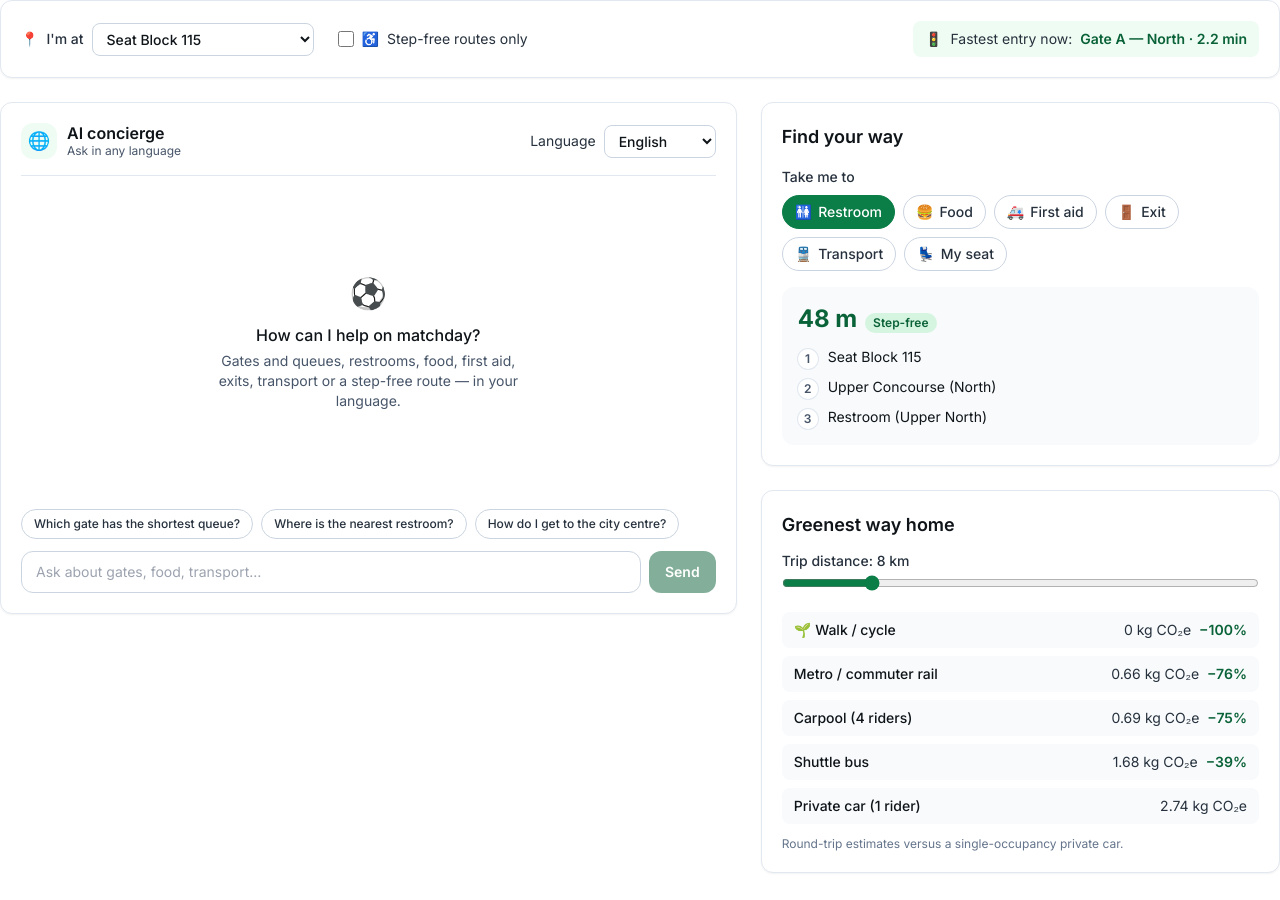
Test: ConciergeChat — offline behaviour › answers from the on-device engine when the network is gone
This screenshot has width=1280, height=900.
Step 1. Click the button "Where is the nearest restroom?" → (364, 524), box [261, 509, 467, 539]
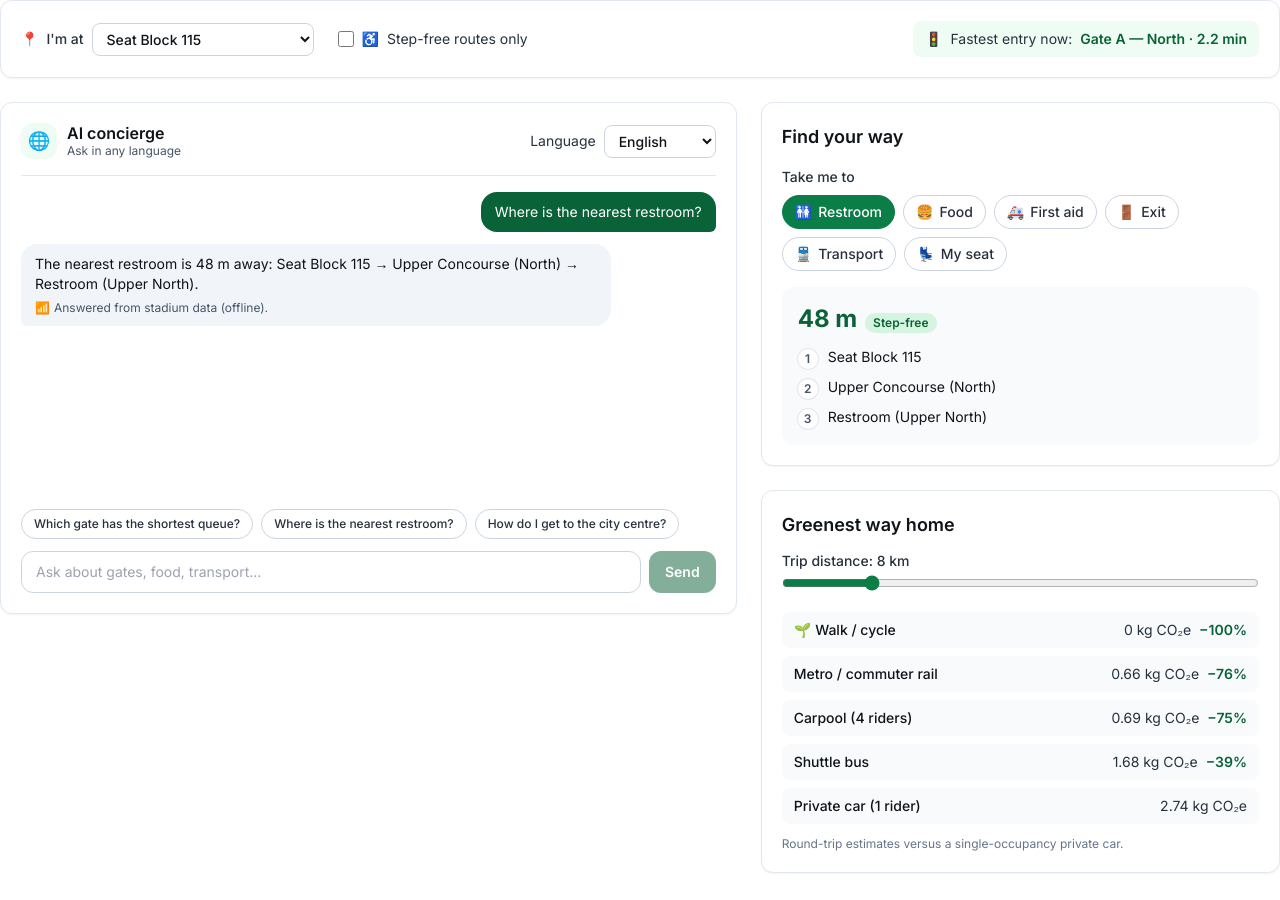
Now the text "48 m away" is shown, box [35, 255, 579, 292]
Now the text "📶 Answered from stadium data (offline)." is shown, box [35, 300, 268, 315]
